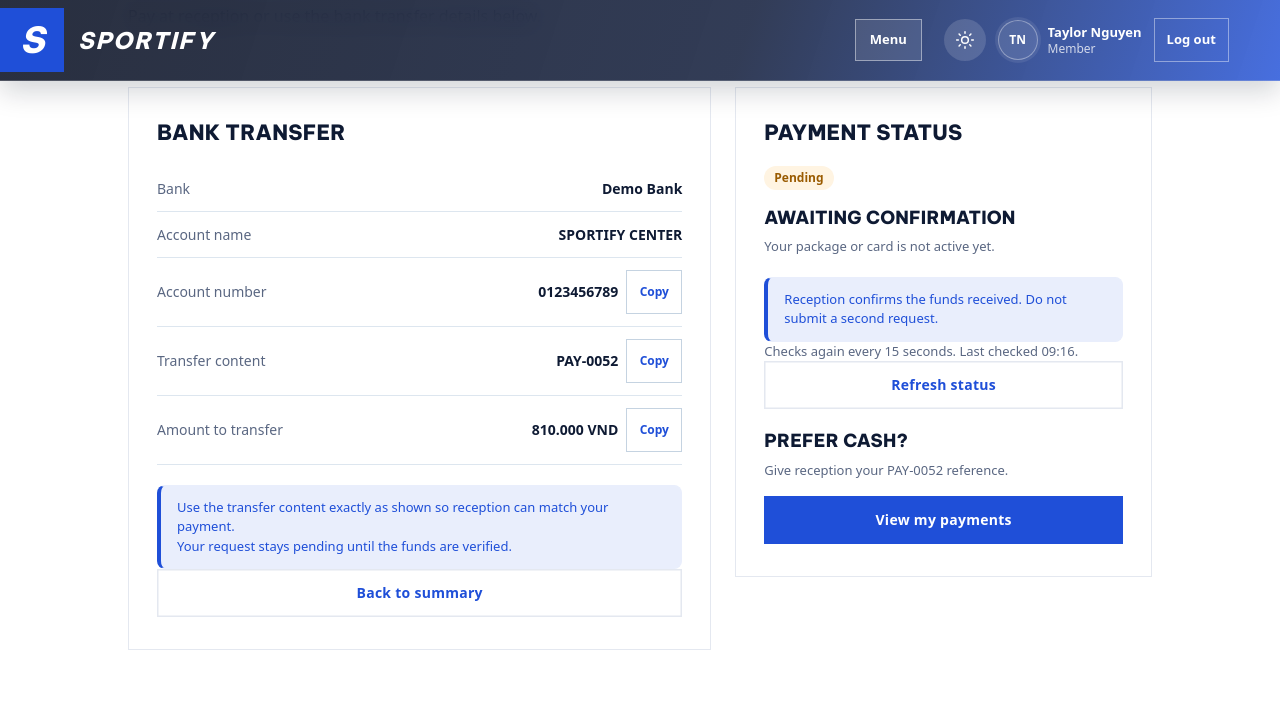
Test: FE-11 Payment Instructions and Status (F3-02) › TC-FE11-013 when copying fails the member is told to copy by hand
This screenshot has width=1280, height=720.
(page scrolled)
Click the button with aria-label "Copy transfer content" at {"x": 654, "y": 361}, box [626, 339, 682, 383]
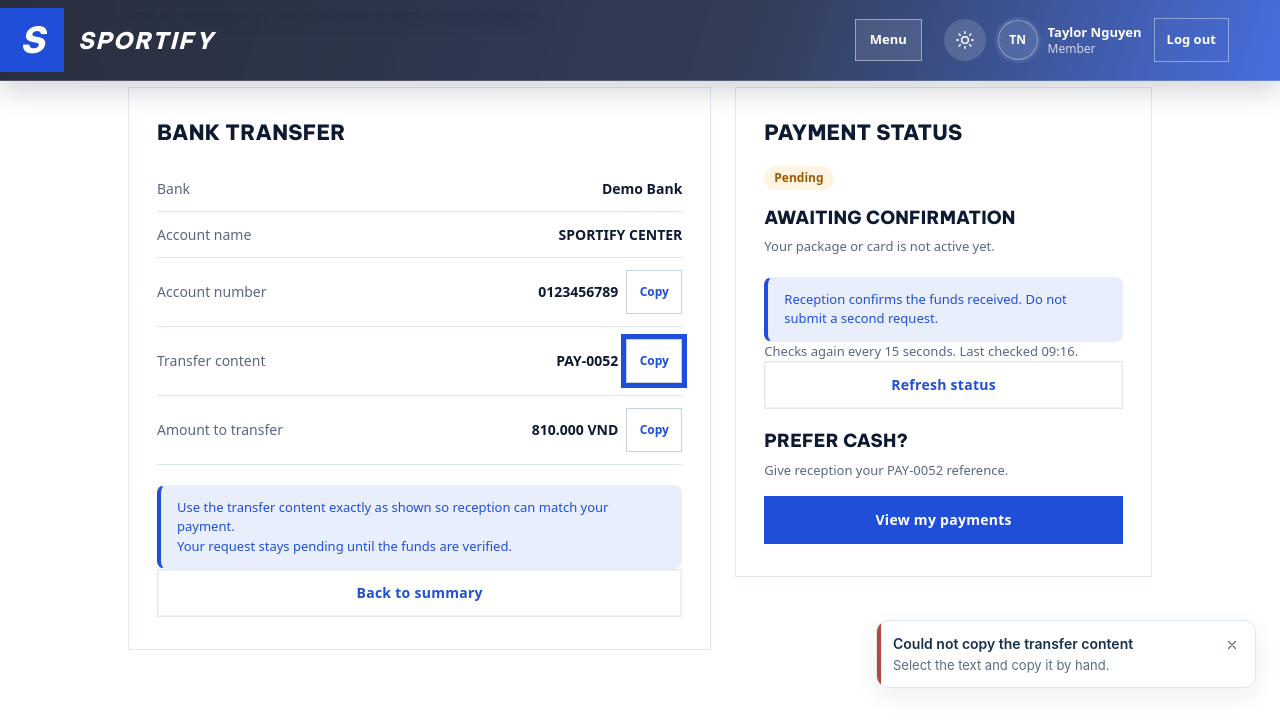
Now the text "Could not copy the transfer content" is shown, box [893, 634, 1133, 652]
